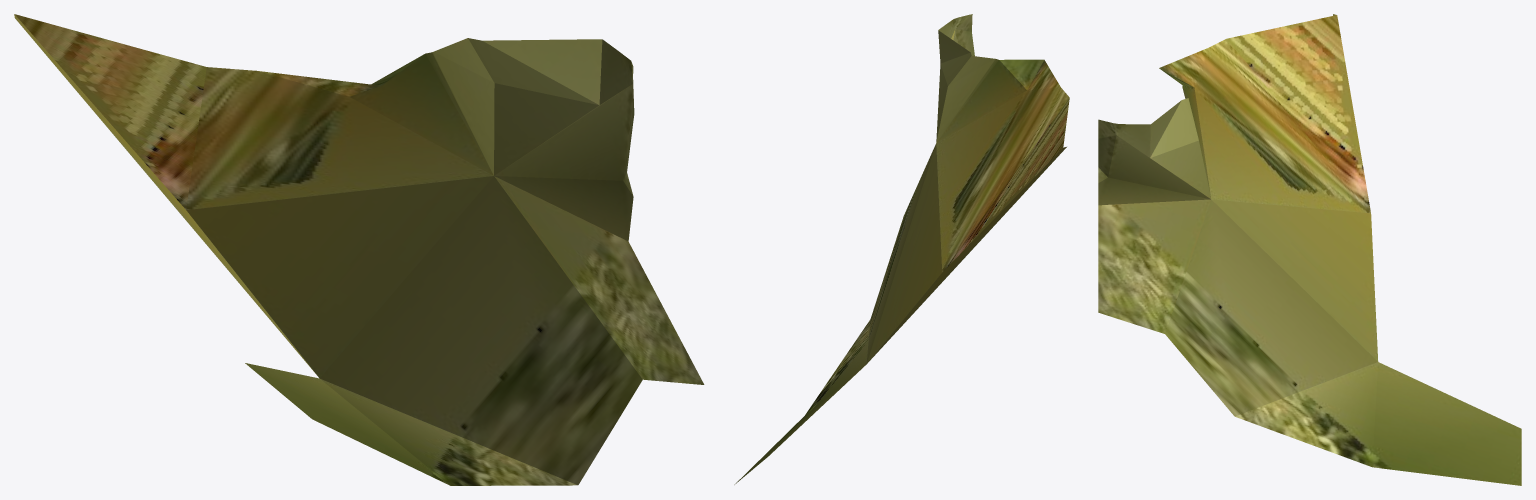
The picture shows the model from 3 angles, left to right: view 1: azimuth 30°, elevation 25°; view 2: azimuth 150°, elevation 25°; view 3: azimuth 270°, elevation 25°; orthographic projection. The views are drawn at different scales.
Bounding box in the file's own units: 2.05 × 2.67 × 2.95.
2 materials, 2 textured.
